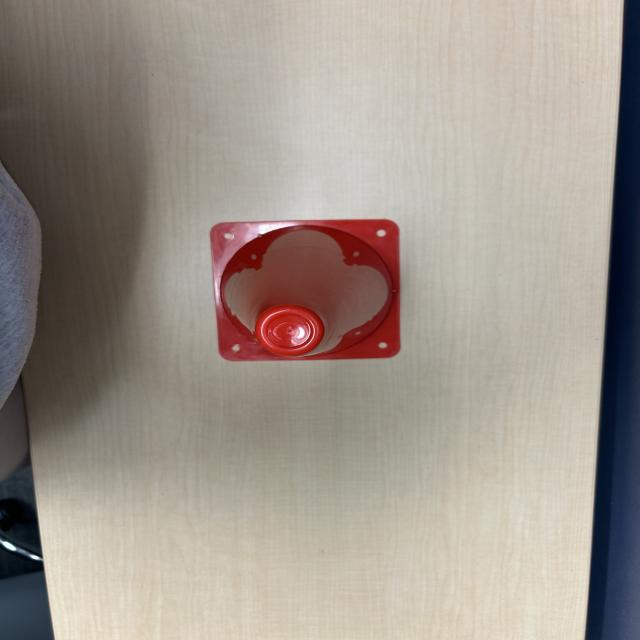orange cone: (203, 216, 419, 372)
